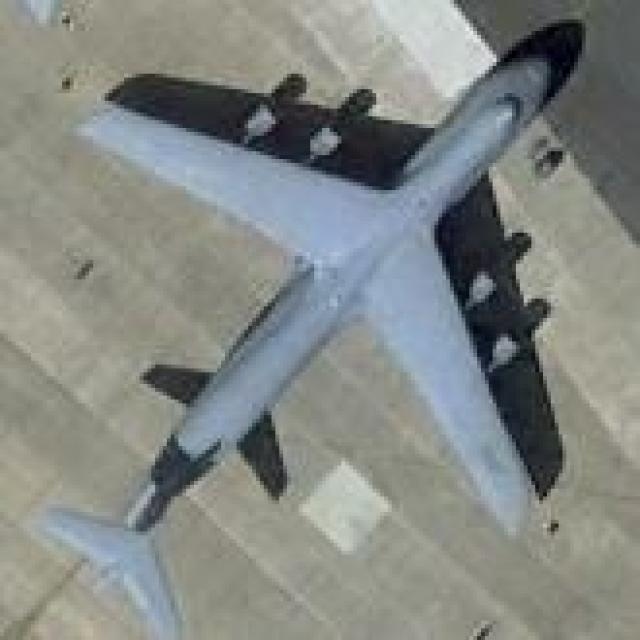C-5_TopDown: (36, 16, 586, 635)
